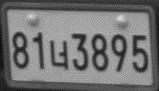1: (32, 31, 45, 70)
3: (70, 32, 89, 70)
5: (131, 34, 148, 72)
8: (91, 33, 108, 71), (11, 31, 28, 68)
9: (110, 32, 127, 72)
너: (49, 39, 69, 71)
